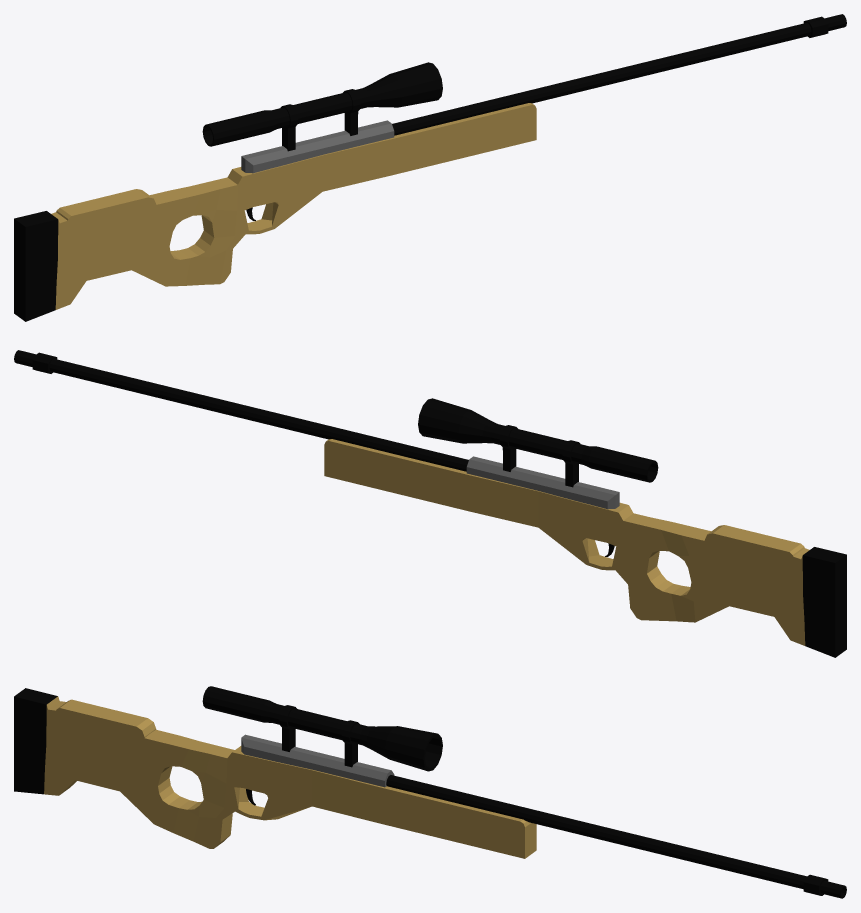
The model's file is Sniper.fbx.
3 views of the same model, one above another, from view 1: azimuth 30°, elevation 25°; view 2: azimuth 150°, elevation 25°; view 3: azimuth 330°, elevation 25° (orthographic).
Visible parts, largest first — view 1: Gun .001; view 2: Gun .001; view 3: Gun .001.
Boxes of the visible parts, bbox=[...] form: Gun .001: bbox=[14, 14, 846, 321]; Gun .001: bbox=[14, 350, 846, 657]; Gun .001: bbox=[14, 686, 846, 898].
Size of the model in its own units: 419 by 79.46 by 17.24.
